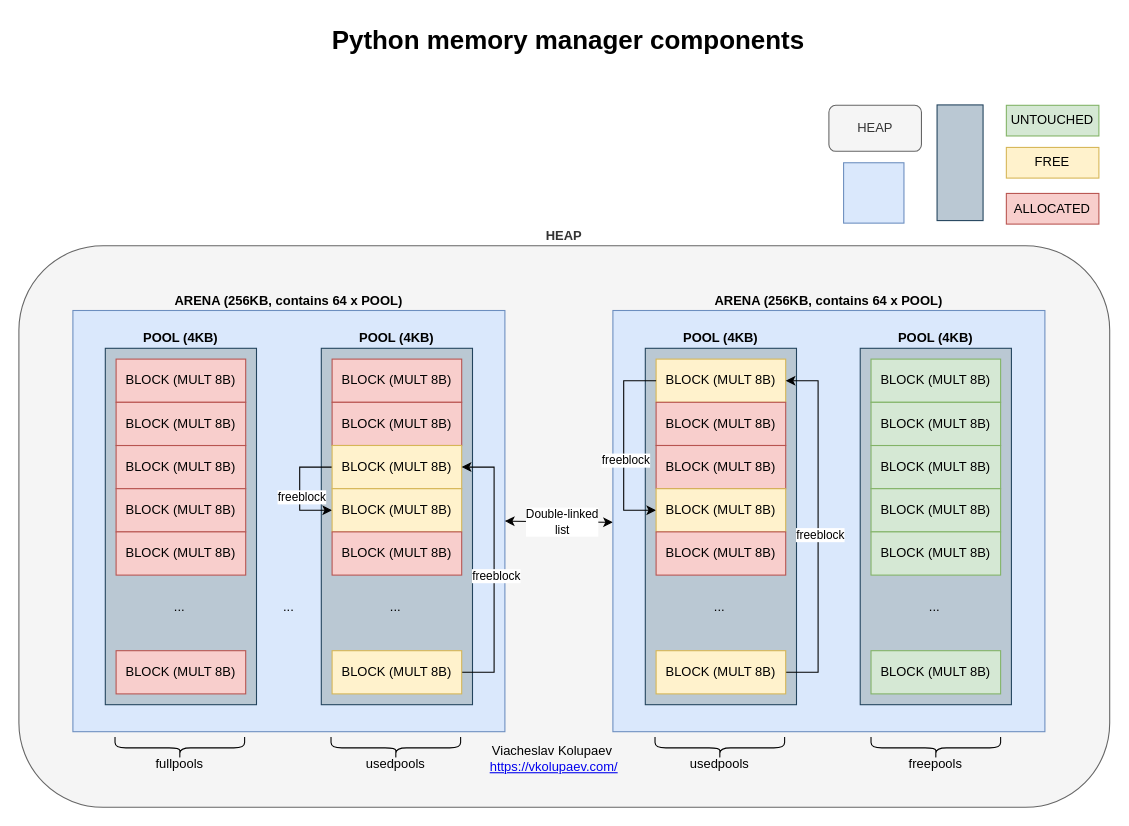
Image size: 1129x826. Some labels were removed from this diagram. The box of each missing label's shape, as (x1, y1, x2, y2) in pixels:
ARENA: (843, 162, 904, 223)
POOL: (936, 104, 983, 221)
